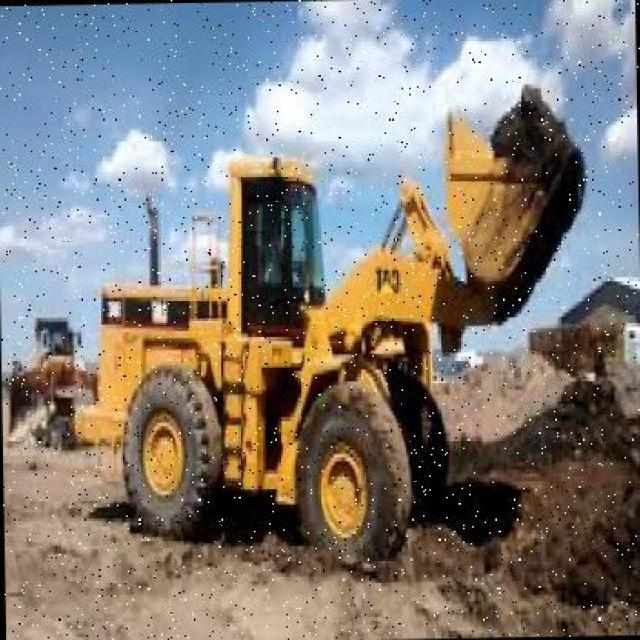buldozerpayloadergrader: (51, 68, 582, 566)
